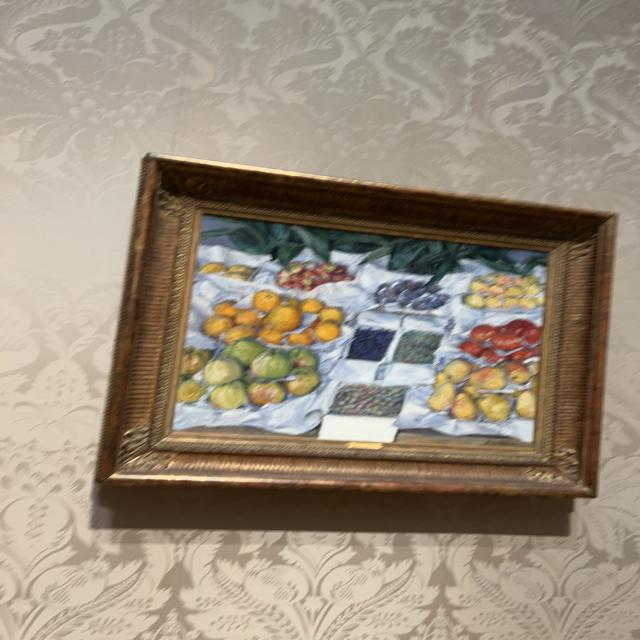fruits: (187, 219, 548, 439)
